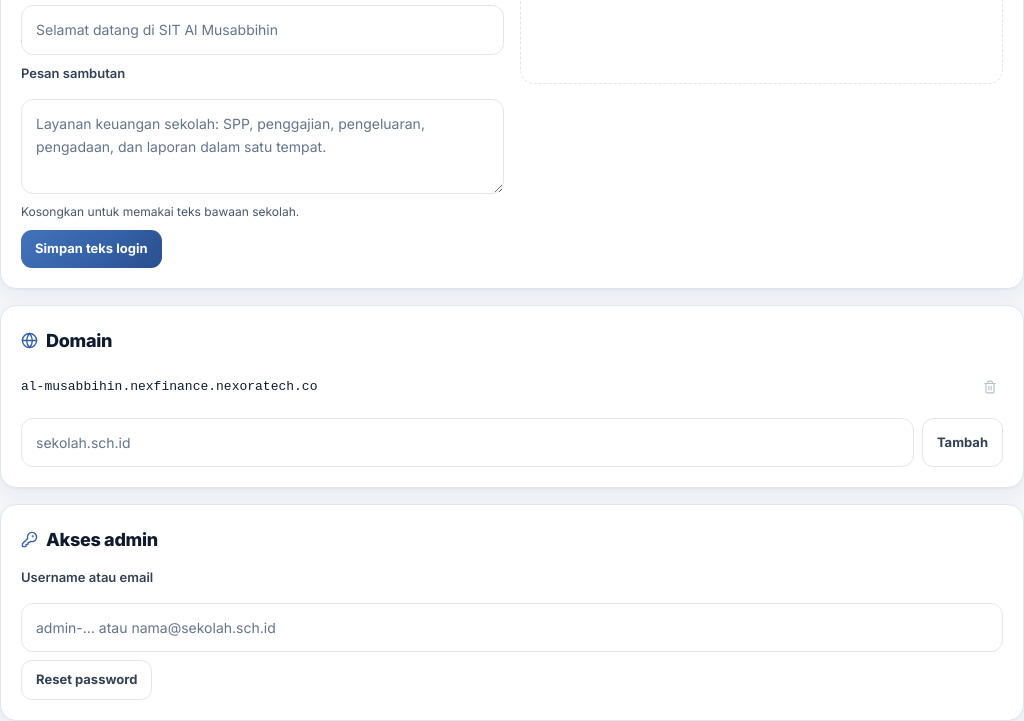
Scenario: TenantDetail › resets an admin password and reveals it once
(page scrolled)
Step 1. Type "admin-almusabbihin" into the field labelled "Username atau email" → (512, 628), box [21,603,1003,652]
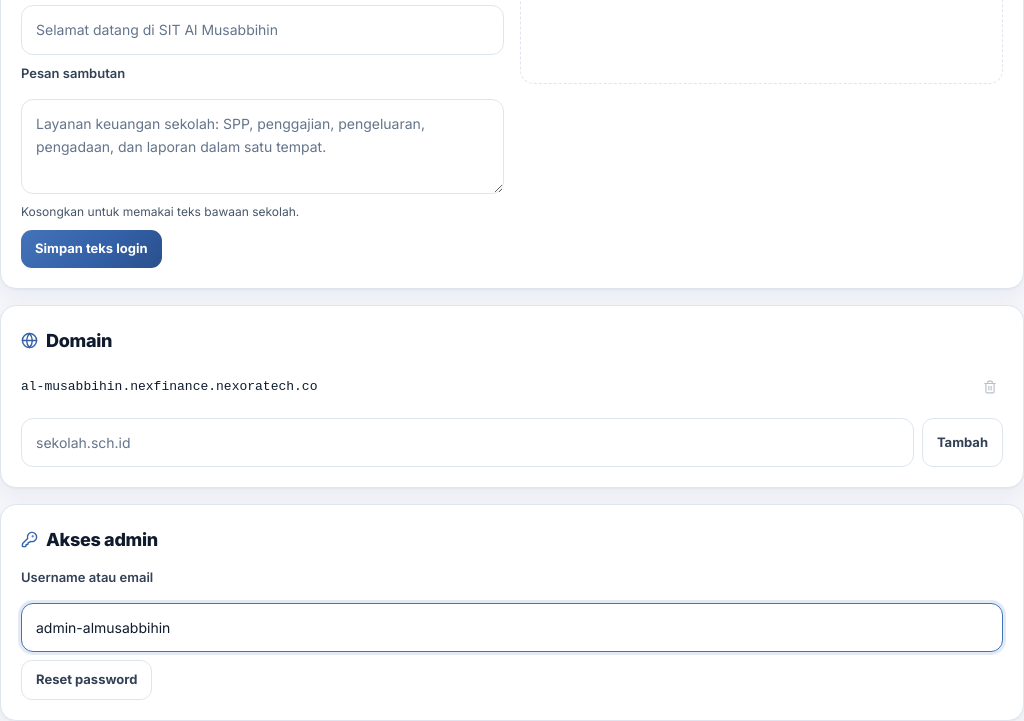
Step 2. Click the button "Reset password" → (87, 680), box [21,660,152,700]
(page scrolled)
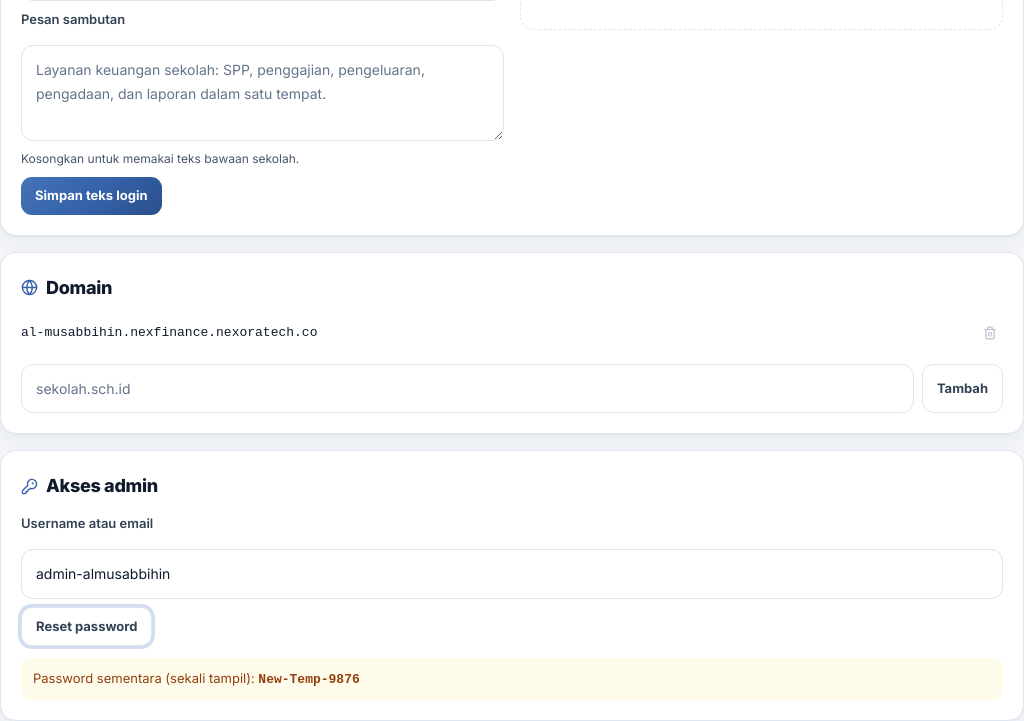
Now the text "New-Temp-9876" is shown, box [258,672,360,687]
